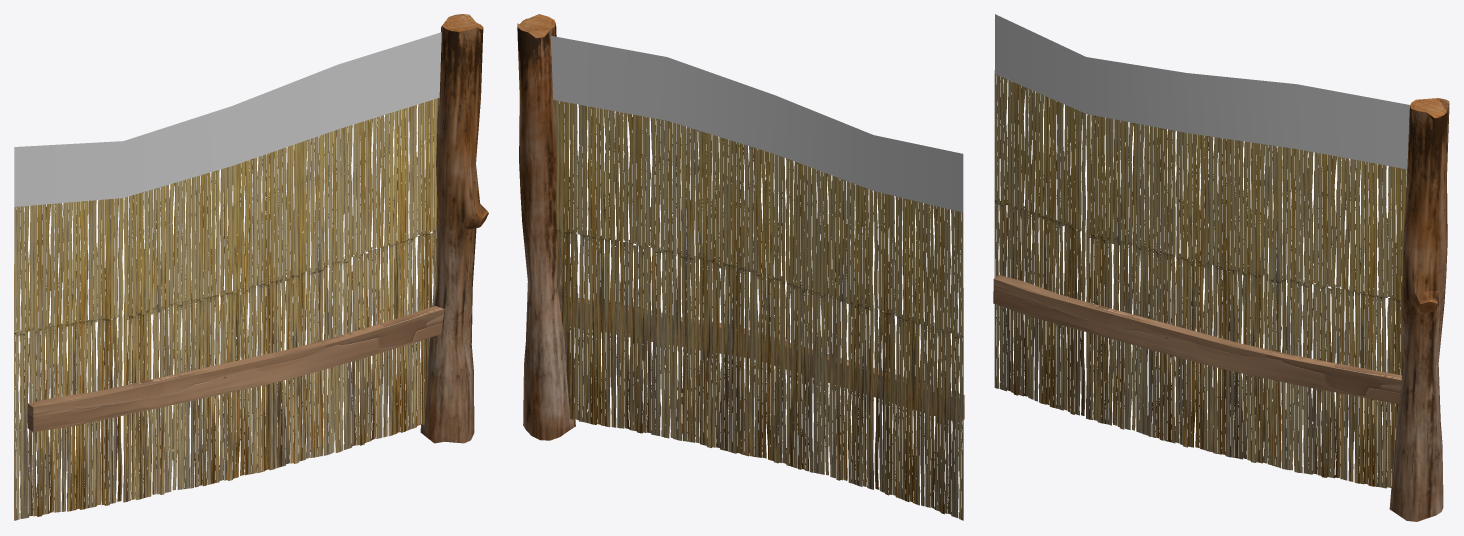
The model's file is bambooFence_Single.fbx.
The picture shows the model from 3 angles, left to right: view 1: azimuth 30°, elevation 25°; view 2: azimuth 150°, elevation 25°; view 3: azimuth 330°, elevation 25°; orthographic projection.
Parts seen in each view (by area): view 1: bambooFence_Single; view 2: bambooFence_Single; view 3: bambooFence_Single.
Boxes of the visible parts, box(x1,y1,x2,y2) form: bambooFence_Single: box(14, 14, 488, 520); bambooFence_Single: box(517, 14, 964, 520); bambooFence_Single: box(993, 14, 1449, 521).
Bounding box in the file's own units: 364 × 312 × 41.
